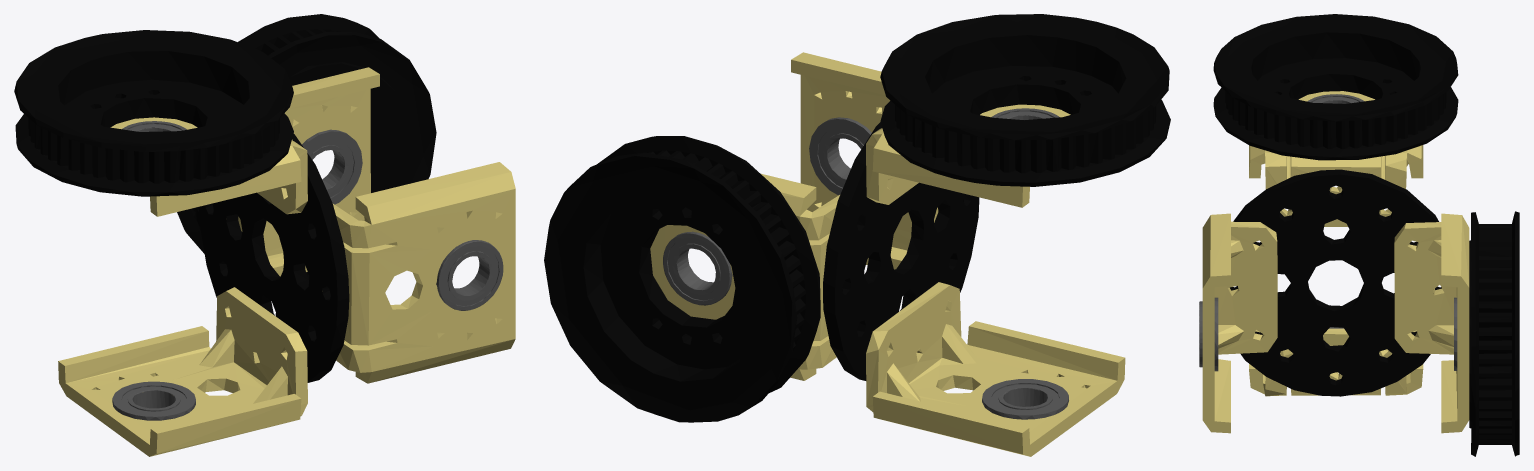
Rendered from joint_junction_link.dae.
3 views of the same model, side by side, from view 1: azimuth 30°, elevation 25°; view 2: azimuth 150°, elevation 25°; view 3: azimuth 270°, elevation 25° (orthographic). The views are drawn at different scales.
Parts seen in each view (by area): view 1: joint_junction_link_black, joint_junction_link_gold, joint_junction_link_grey; view 2: joint_junction_link_black, joint_junction_link_gold, joint_junction_link_grey; view 3: joint_junction_link_black, joint_junction_link_gold, joint_junction_link_grey.
Part boxes in pixels (x1=…): joint_junction_link_black: x1=14, y1=14, x2=436, y2=382; joint_junction_link_gold: x1=58, y1=67, x2=515, y2=456; joint_junction_link_grey: x1=112, y1=121, x2=503, y2=420; joint_junction_link_black: x1=544, y1=14, x2=1170, y2=422; joint_junction_link_gold: x1=650, y1=52, x2=1125, y2=456; joint_junction_link_grey: x1=663, y1=108, x2=1068, y2=419; joint_junction_link_black: x1=1213, y1=14, x2=1519, y2=456; joint_junction_link_gold: x1=1202, y1=91, x2=1469, y2=433; joint_junction_link_grey: x1=1199, y1=94, x2=1457, y2=371.
Bounding box in the file's own units: 0.1035 × 0.0679 × 0.0679.
